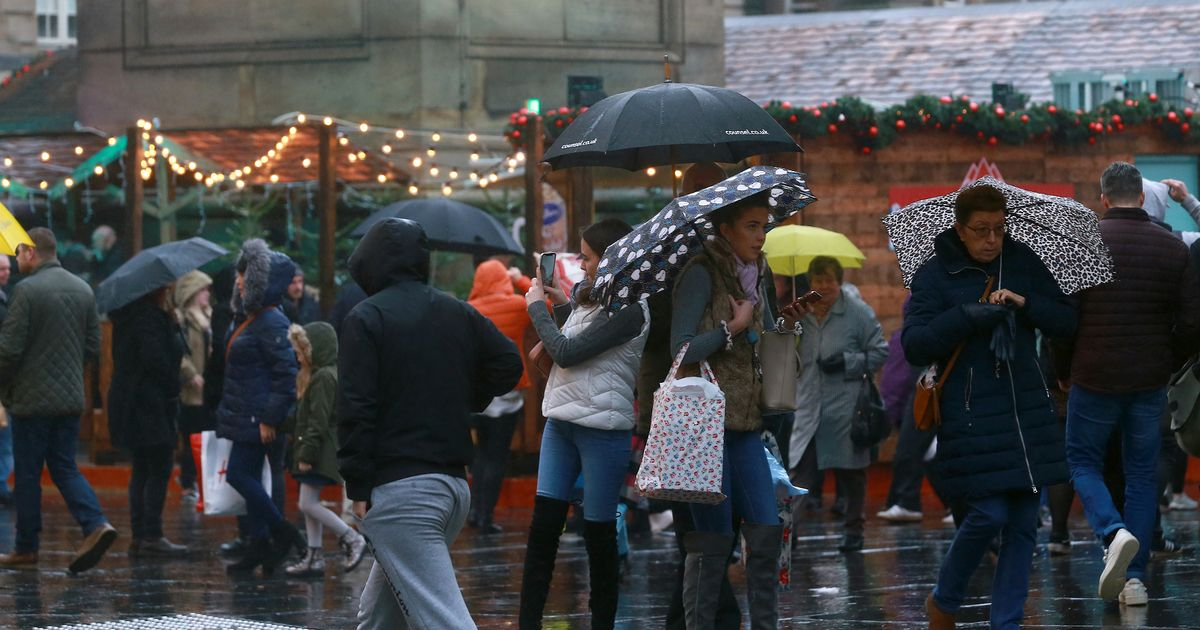person: (907, 192, 1068, 620), (669, 205, 801, 621), (517, 219, 642, 619), (790, 254, 883, 550)
